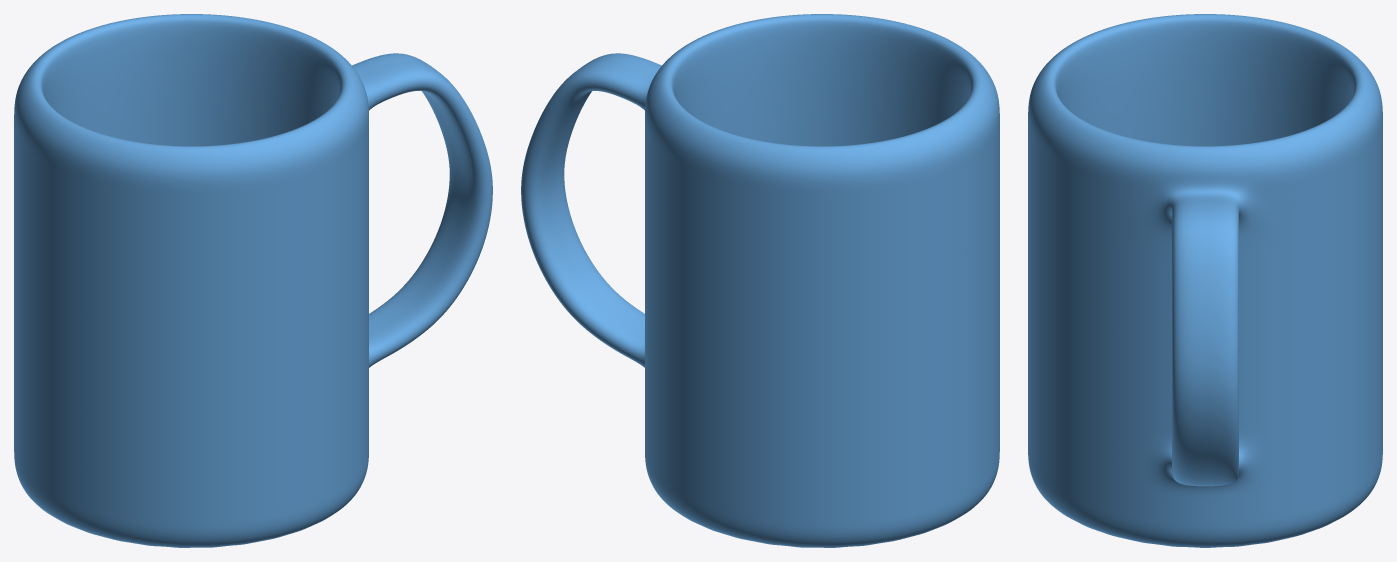
The model's file is mitaza.glb.
The picture shows the model from 3 angles, left to right: view 1: azimuth 30°, elevation 25°; view 2: azimuth 150°, elevation 25°; view 3: azimuth 270°, elevation 25°; orthographic projection.
Parts seen in each view (by area): view 1: Taza2; view 2: Taza2; view 3: Taza2.
Boxes of the visible parts, x1,y1,x2,y2 form: Taza2: [14, 14, 492, 547]; Taza2: [521, 14, 999, 547]; Taza2: [1028, 14, 1382, 547].
Size of the model in its own units: 2.55 by 2.24 by 1.76.
